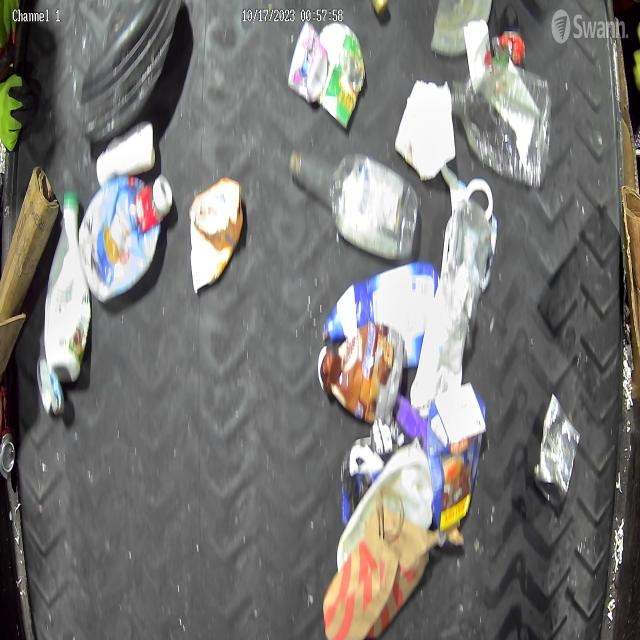can: (318, 24, 367, 130), (536, 393, 580, 502), (0, 382, 16, 478)
non_white_jug: (325, 260, 437, 358), (427, 379, 487, 532)
plastic_bottle: (290, 150, 420, 259), (452, 68, 552, 188)
